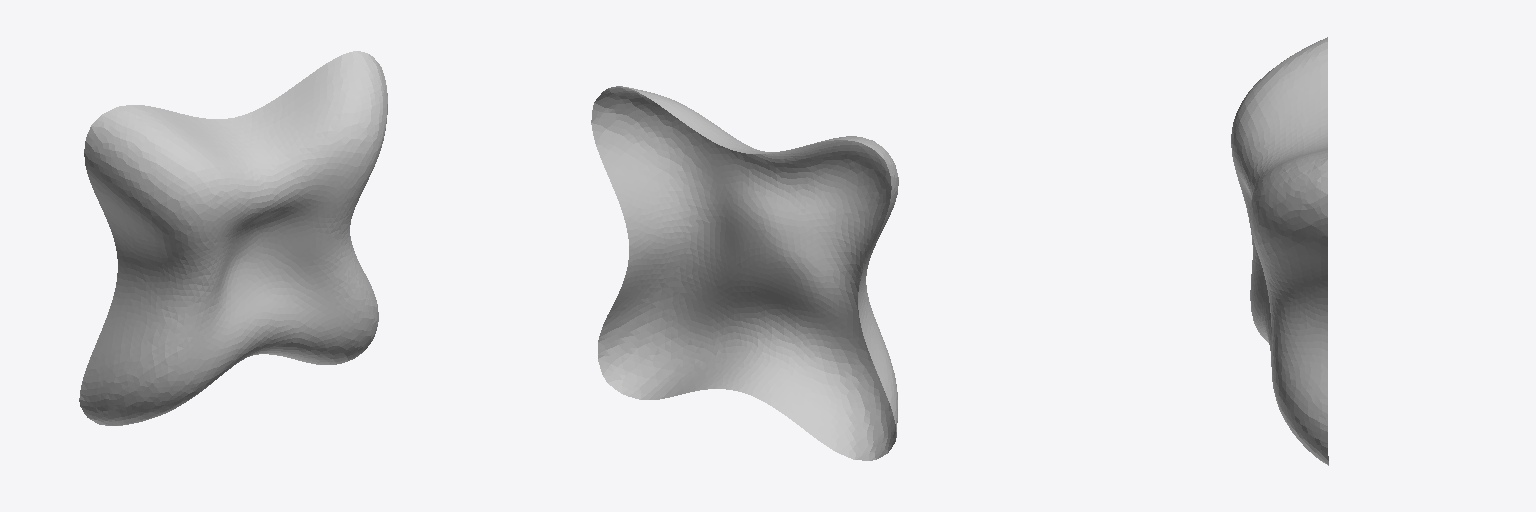
File: lilium-param.obj
3 views of the same model, side by side, from view 1: azimuth 30°, elevation 25°; view 2: azimuth 150°, elevation 25°; view 3: azimuth 270°, elevation 25° (orthographic).
Parts seen in each view (by area): view 1: default; view 2: default; view 3: default.
Boxes of the visible parts, box(x1,y1,x2,y2) form: default: box(79, 51, 387, 425); default: box(591, 86, 898, 460); default: box(1231, 37, 1328, 465).
Bounding box in the file's own units: 1.99 × 1.98 × 0.5498.